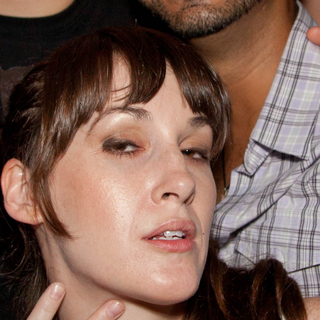eye: (96, 131, 148, 159), (174, 139, 209, 166)
